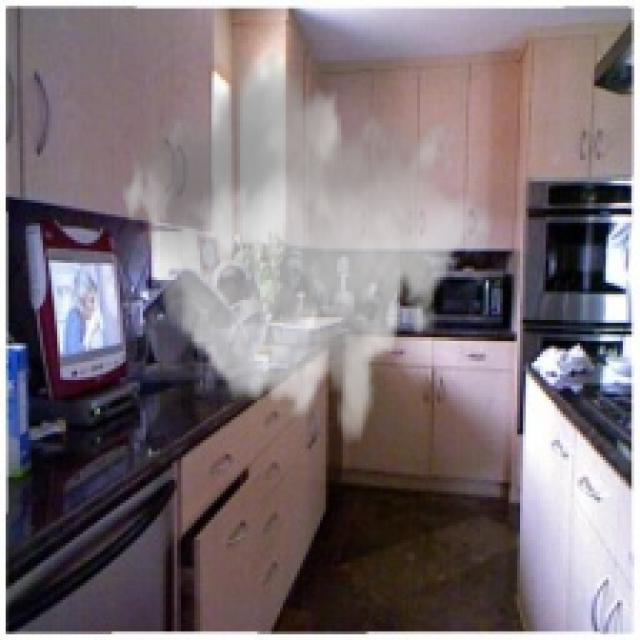smoke: (117, 46, 494, 448)
